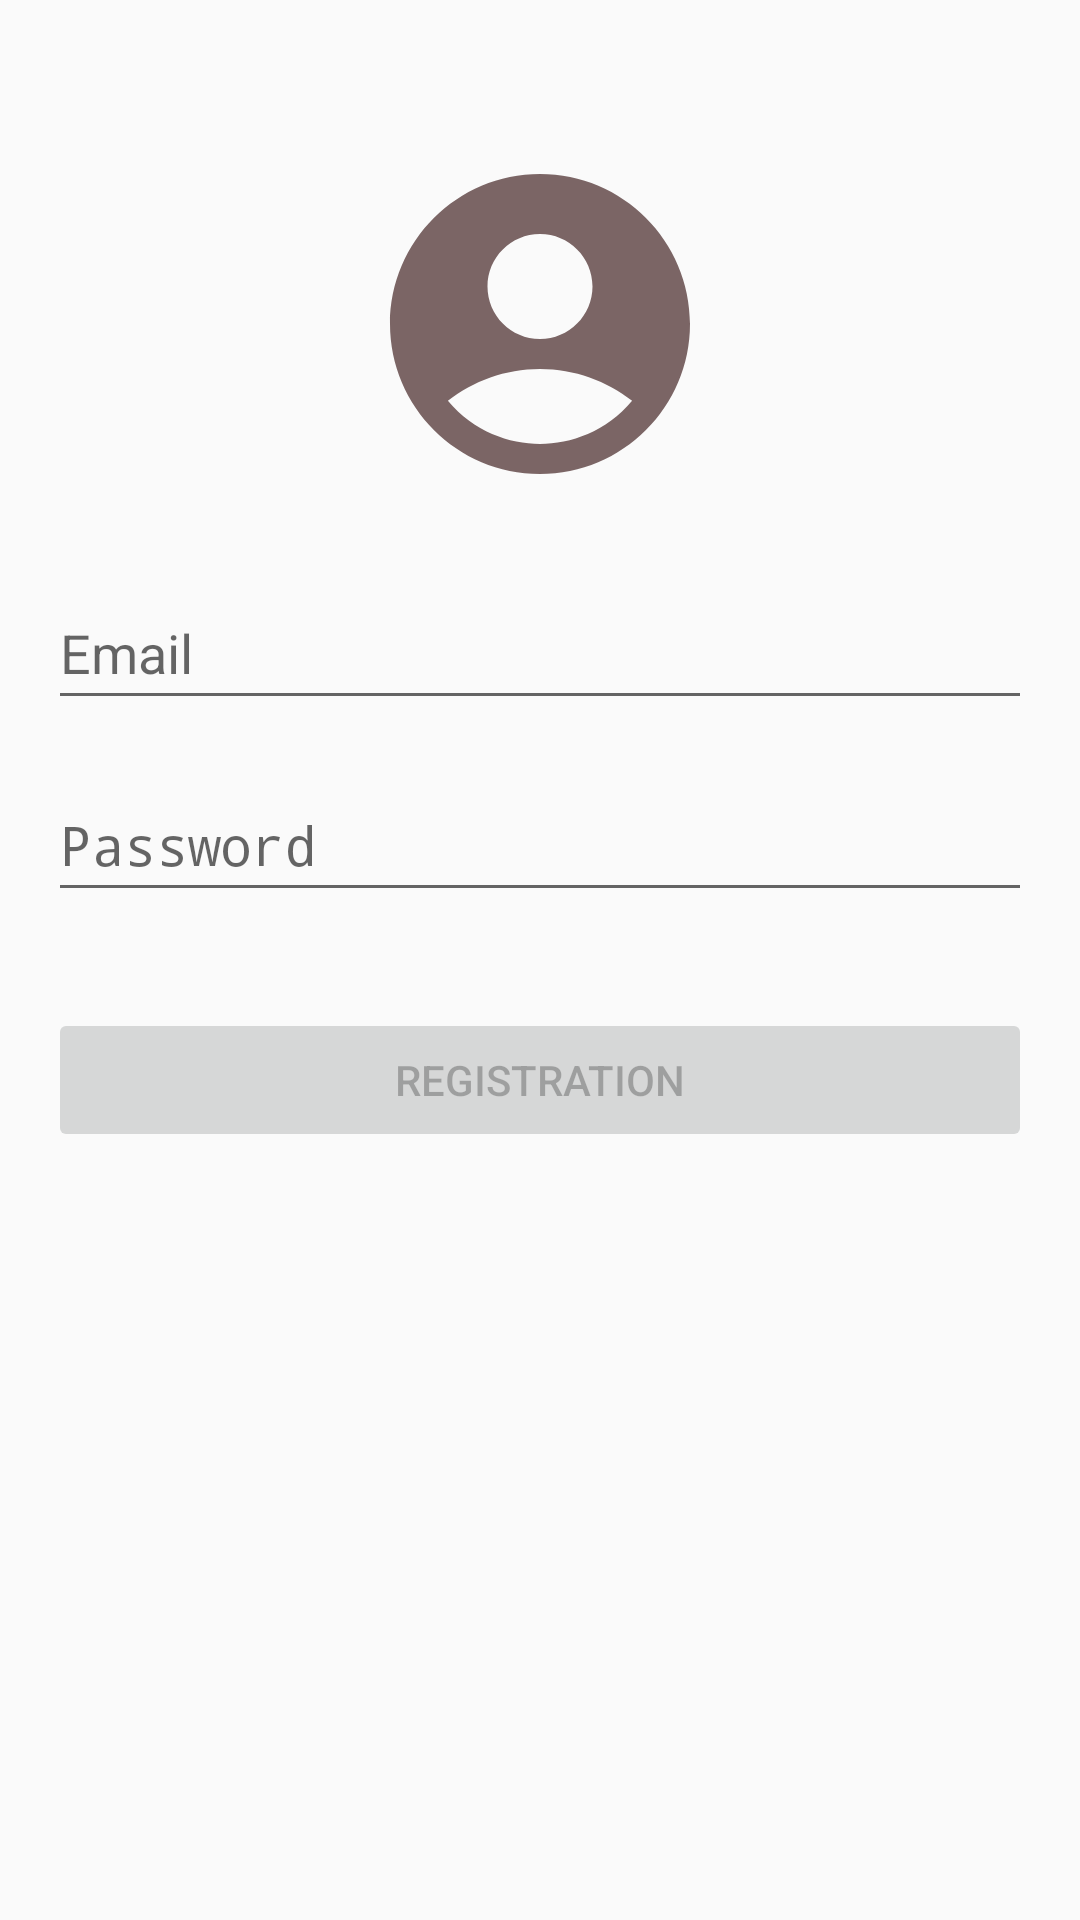

Screen size 1080×1920. Icon name, then its box in pixels as (x1, y1, x2, y2):
account circle: (390, 174, 690, 474)
